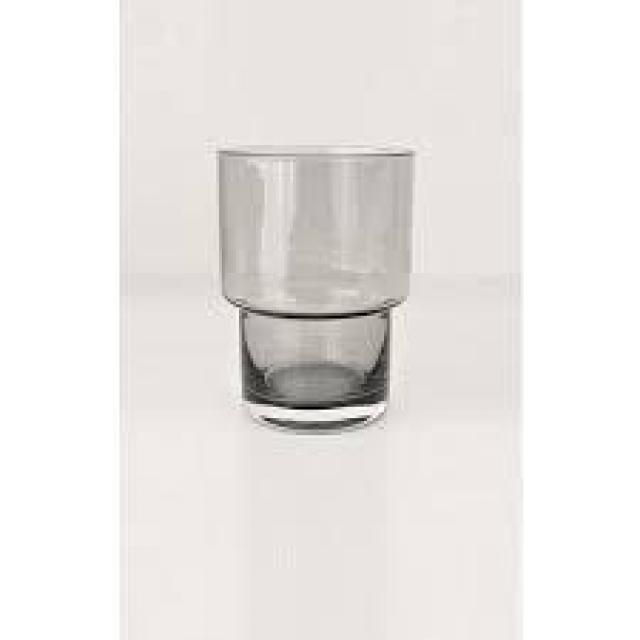non-organic waste: (209, 140, 422, 432)
